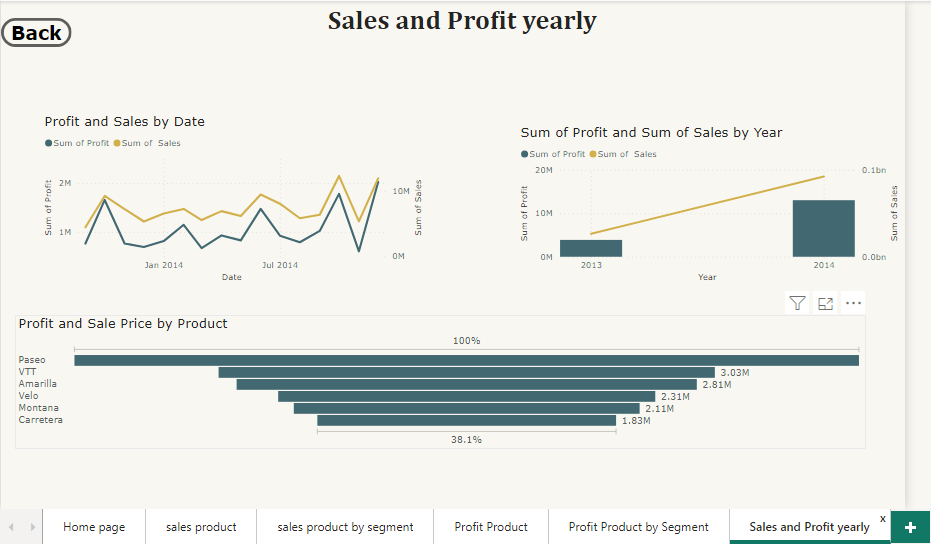

What the dashboard file says about the page in this screenshot:
{"tool":"powerbi","page":{"name":"Page 6","canvas":[1280,720],"ordinal":5},"visuals":[{"type":"textbox","box":[430.9,0,446,107],"z":0},{"type":"lineChart","title":"Profit and   Sales by Date","fields":{"Category":["financials.Date"],"Y":["Sum(financials.Profit)"],"Y2":["Sum(financials. Sales)"]},"box":[56.3,159.2,548.9,244.3],"z":1000},{"type":"lineStackedColumnComboChart","fields":{"Y2":["Sum(financials. Sales)"],"Category":["financials.Date.Variation.Date Hierarchy.Year"],"Y":["Sum(financials.Profit)"]},"box":[731.4,174.3,548.9,229.2],"z":2000},{"type":"funnel","title":" Profit and Sale Price by Product","fields":{"Category":["financials.Product"],"Y":["Sum(financials.Profit)"]},"box":[19.2,444.6,1206.2,190.7],"z":3000},{"type":"actionButton","box":[0,24.1,100.1,41],"z":4000}]}

Visuals, with their boxes on the page's 1280x720 design canvas (x1, y1, x2, y2). These are canvas units, not pixel positions in the 931x544 screenshot, which may show the page scaled, cropped or inside an application window:
textbox: (x1=431, y1=0, x2=877, y2=107)
"Profit and   Sales by Date" lineChart: (x1=56, y1=159, x2=605, y2=404)
lineStackedColumnComboChart - Sum(financials. Sales) x financials.Date.Variation.Date Hierarchy.Year: (x1=731, y1=174, x2=1280, y2=404)
" Profit and Sale Price by Product" funnel: (x1=19, y1=445, x2=1225, y2=635)
actionButton: (x1=0, y1=24, x2=100, y2=65)
